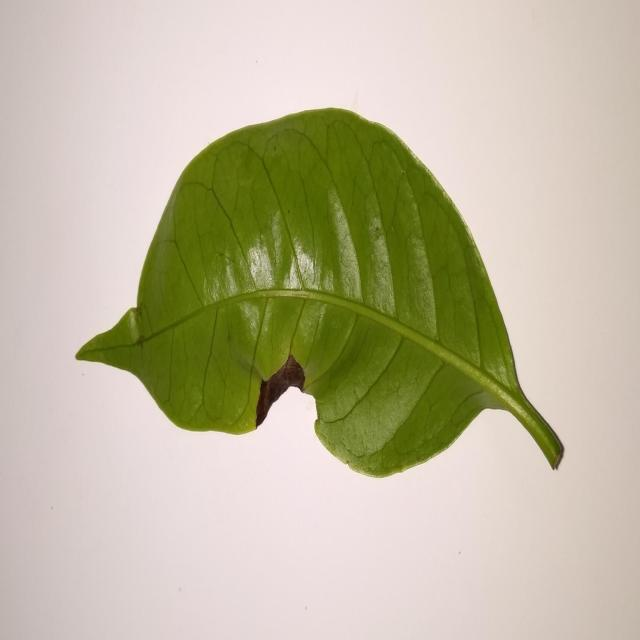Enfermedad-Antracnosis: (73, 109, 565, 480)
